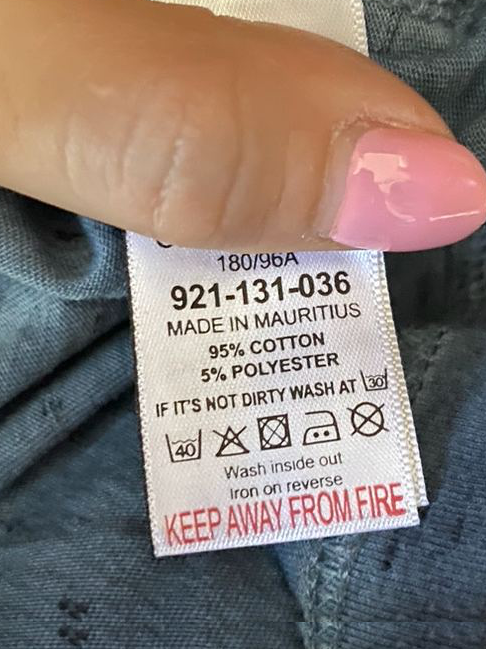do_not_bleach: (211, 419, 252, 461)
do_not_dry_clean: (341, 397, 392, 441)
do_not_tumble_drying: (254, 408, 294, 454)
ironing_at_med_temp: (300, 405, 345, 447)
wash_at_or_below_30: (357, 365, 394, 393)
wash_at_or_below_40: (163, 423, 207, 465)
